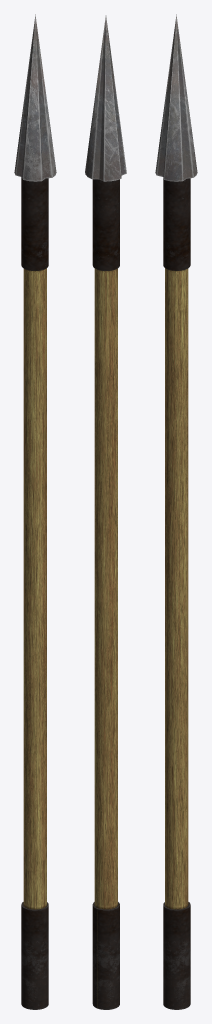
Rendered from spearObj.glb.
3 renders of one model, left to right at view 1: azimuth 90°, elevation 25°; view 2: azimuth 210°, elevation 25°; view 3: azimuth 270°, elevation 25°, orthographic.
Parts seen in each view (by area): view 1: Spear_SpearpCylinder3.001; view 2: Spear_SpearpCylinder3.001; view 3: Spear_SpearpCylinder3.001.
Boxes of the visible parts, x1,y1,x2,y2 form: Spear_SpearpCylinder3.001: [14, 14, 56, 1009]; Spear_SpearpCylinder3.001: [85, 15, 126, 1009]; Spear_SpearpCylinder3.001: [155, 14, 197, 1009].
Bounding box in the file's own units: 0.2746 × 7.11 × 0.2746.
Materials: 1 (1 with a texture image).
